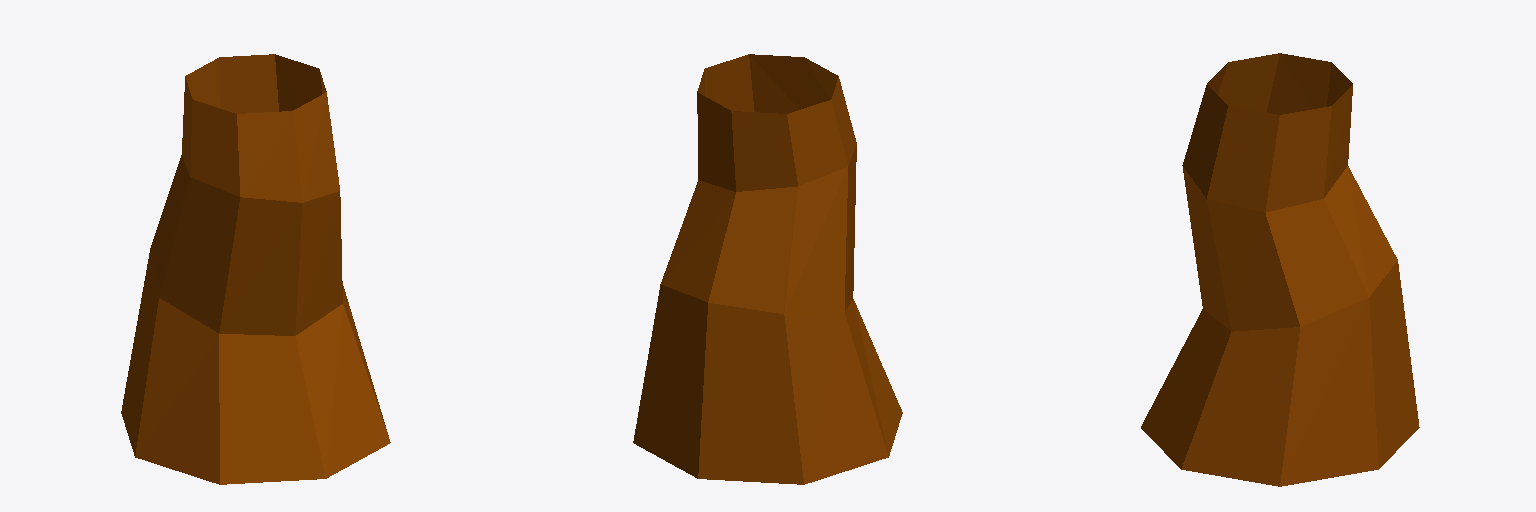
Rendered from trunk.obj.
3 views of the same model, side by side, from view 1: azimuth 30°, elevation 25°; view 2: azimuth 150°, elevation 25°; view 3: azimuth 270°, elevation 25° (orthographic).
Parts seen in each view (by area): view 1: Circle.001_Material.005_0; view 2: Circle.001_Material.005_0; view 3: Circle.001_Material.005_0.
Part boxes in pixels (left/top/right/bottom): Circle.001_Material.005_0: left=121, top=54, right=390, bottom=484; Circle.001_Material.005_0: left=633, top=54, right=902, bottom=484; Circle.001_Material.005_0: left=1141, top=53, right=1419, bottom=486.
Bounding box in the file's own units: 2.85 × 3.87 × 2.85.